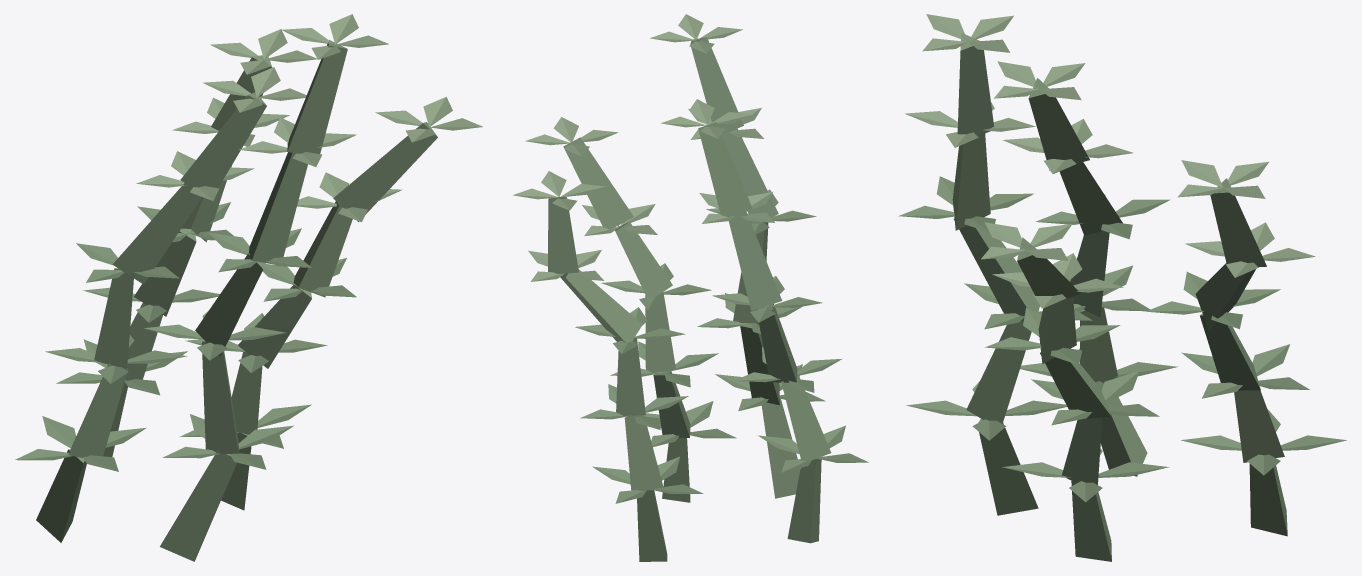
Rendered from shui.huwei@subadult__autumn.glb.
The picture shows the model from 3 angles, left to right: view 1: azimuth 30°, elevation 25°; view 2: azimuth 150°, elevation 25°; view 3: azimuth 270°, elevation 25°; orthographic projection. The views are drawn at different scales.
Visible parts, largest first — view 1: shui.huwei@subadult__autumn; view 2: shui.huwei@subadult__autumn; view 3: shui.huwei@subadult__autumn.
Part boxes in pixels (left/top/right/bottom): shui.huwei@subadult__autumn: left=15, top=14, right=482, bottom=561; shui.huwei@subadult__autumn: left=513, top=14, right=868, bottom=561; shui.huwei@subadult__autumn: left=898, top=14, right=1346, bottom=561.
Bounding box in the file's own units: 0.4348 × 0.4977 × 0.3686.
